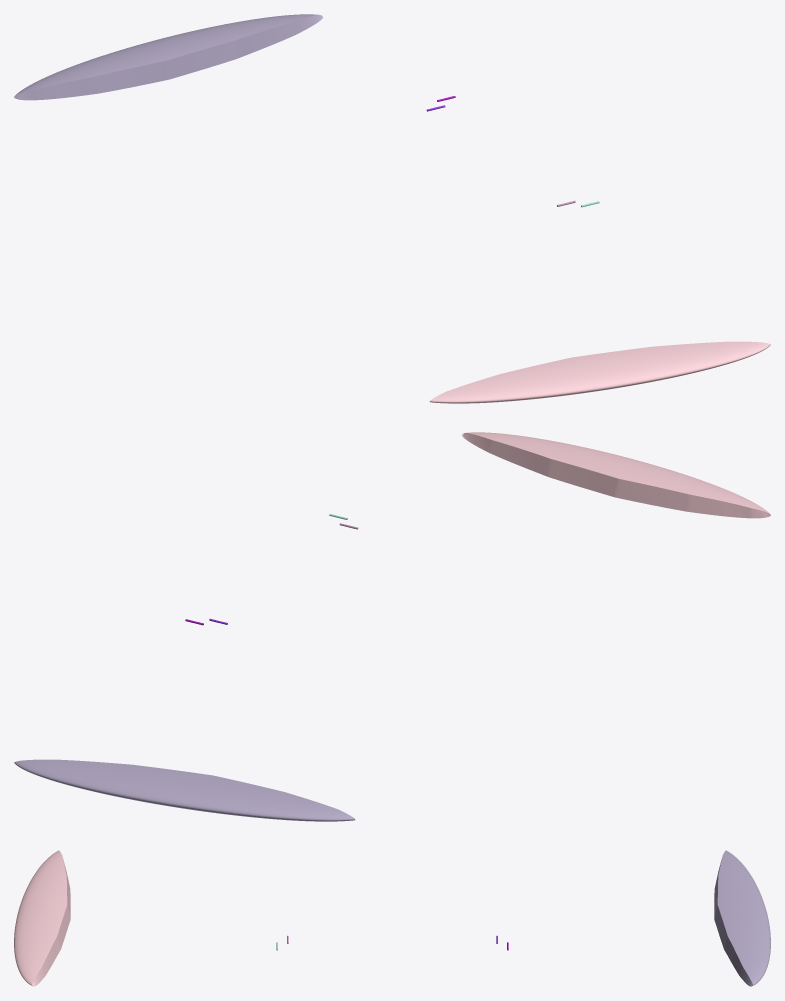
3 views of the same model, one above another, from view 1: azimuth 30°, elevation 25°; view 2: azimuth 150°, elevation 25°; view 3: azimuth 270°, elevation 25° (orthographic). The views are drawn at different scales.
Visible parts, largest first — view 1: Object_8, Object_8.5014; view 2: Object_8.5014, Object_8; view 3: Object_8, Object_8.5014.
Part boxes in pixels (x1=…): Object_8: x1=14, y1=14, x2=322, y2=100; Object_8.5014: x1=429, y1=341, x2=770, y2=403; Object_8.5014: x1=462, y1=432, x2=770, y2=518; Object_8: x1=14, y1=759, x2=355, y2=821; Object_8: x1=714, y1=850, x2=770, y2=986; Object_8.5014: x1=14, y1=850, x2=70, y2=986.
Bounding box in the file's own units: 0.3977 × 0.0488 × 1.
